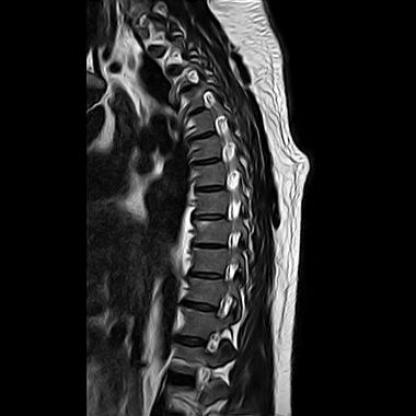Disc Protrusionrotation: (178, 88, 213, 112), (188, 128, 219, 145)
